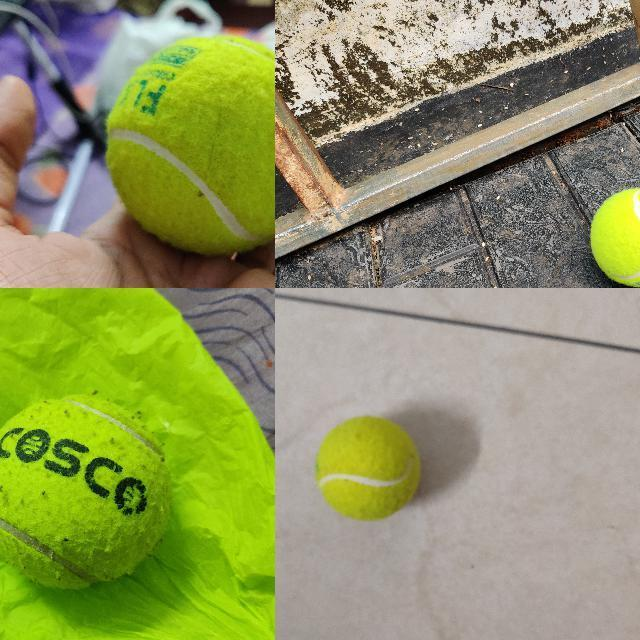tennis-ball: (105, 36, 274, 257), (0, 393, 173, 591), (315, 417, 420, 520), (591, 187, 639, 288)
